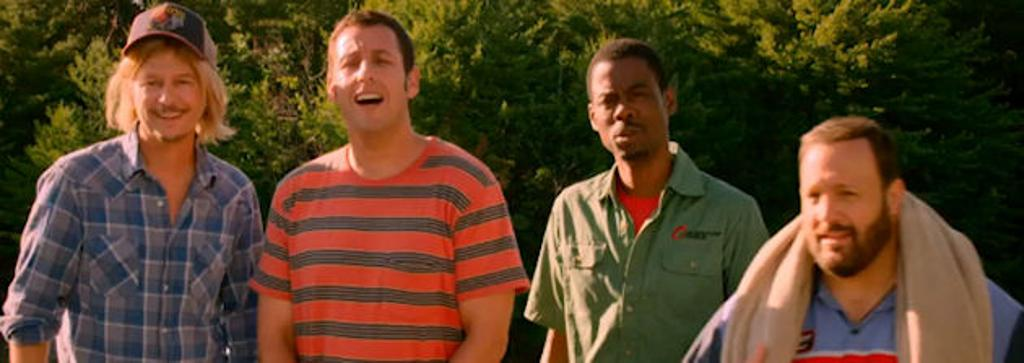face: (800, 144, 884, 274), (332, 26, 404, 134), (132, 44, 202, 138), (594, 60, 664, 154)
